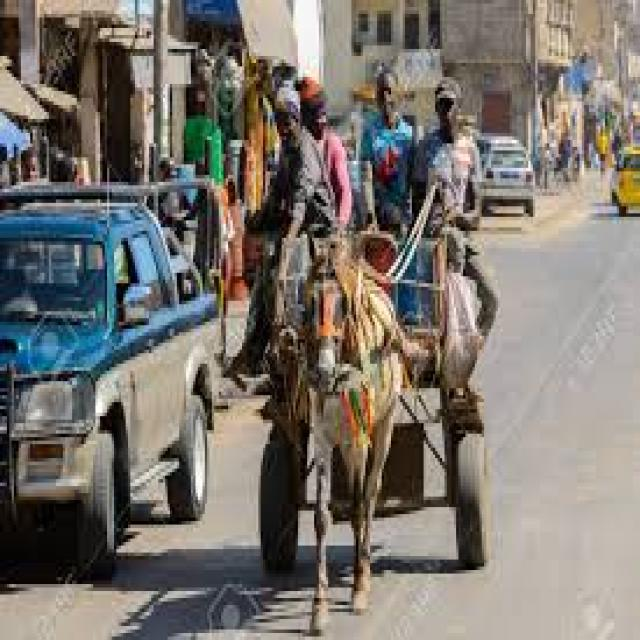charette: (262, 185, 498, 630)
particulier: (1, 187, 217, 578), (484, 148, 535, 216)
taxi: (614, 147, 640, 215)
